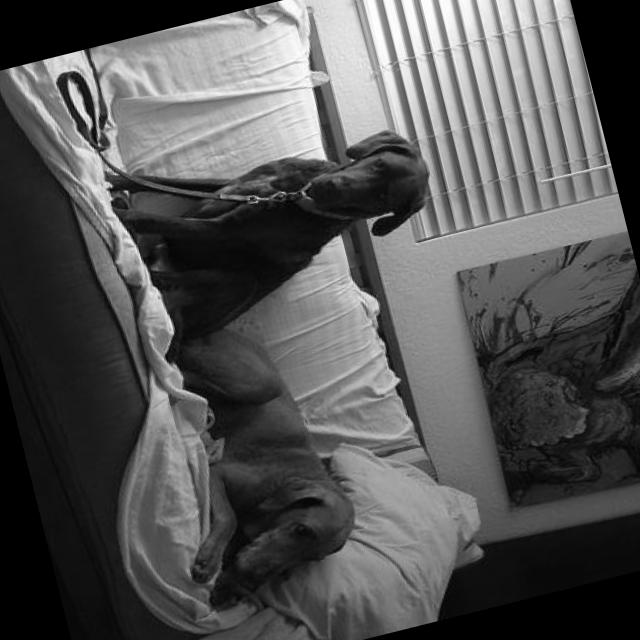laying down: (126, 302, 374, 616)
sitting: (96, 90, 458, 354)
